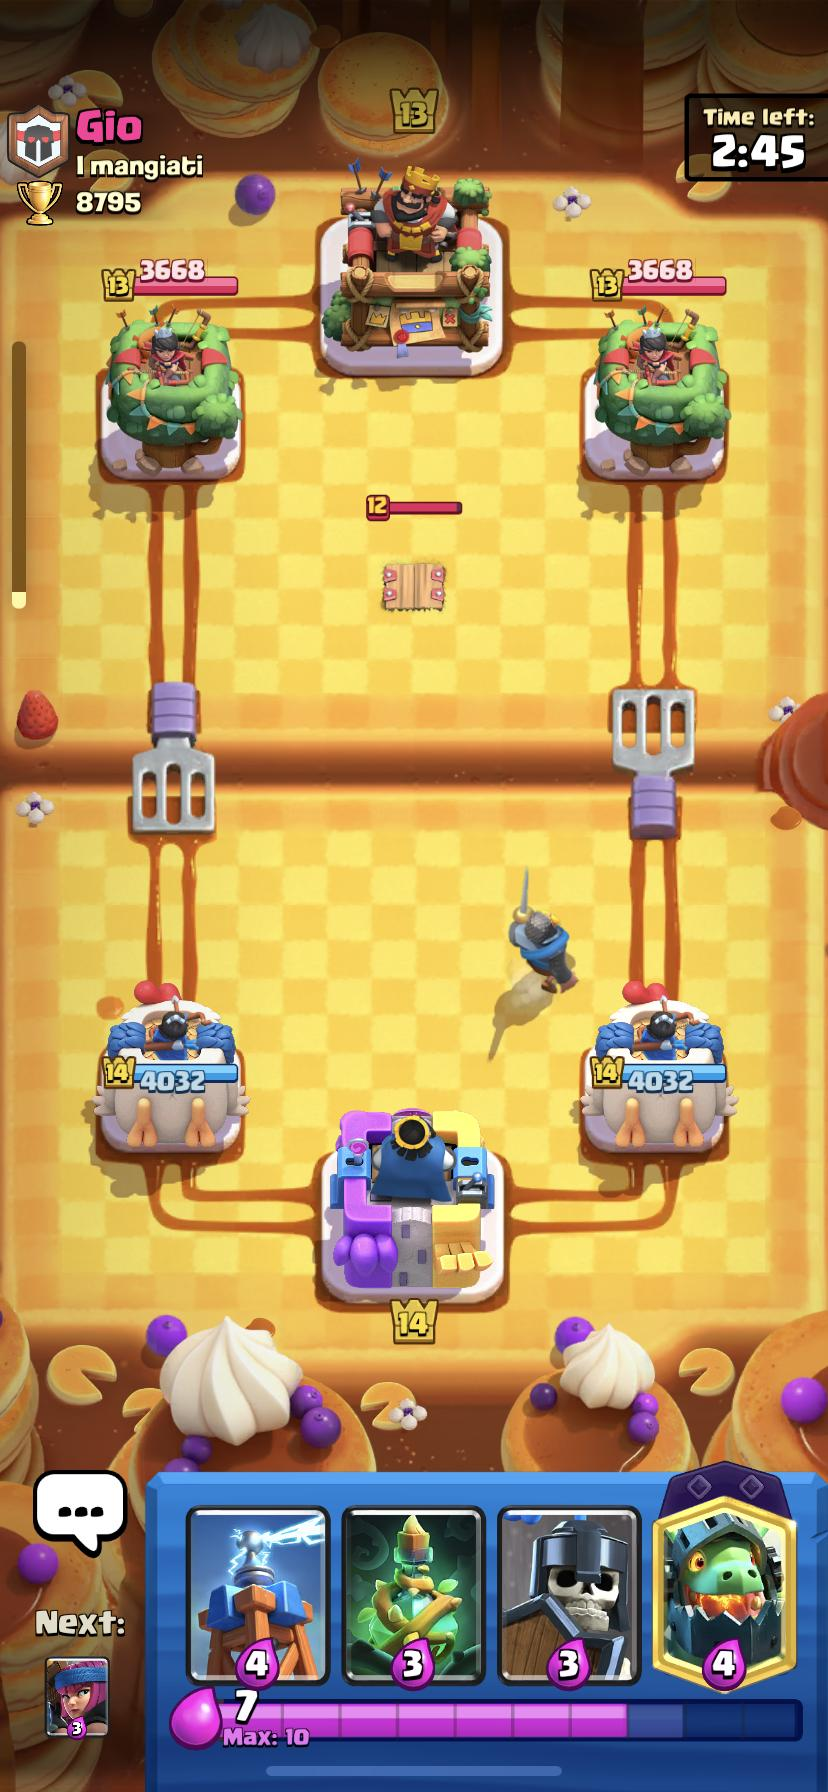EKingTower: (323, 168, 492, 367)
ETesla: (382, 563, 445, 610)
EnemyPrincessTower: (105, 309, 242, 479), (594, 307, 729, 479)
OKnight: (509, 896, 575, 992)
OwnKingTower: (323, 1109, 503, 1302)
OwnPrincessTower: (580, 987, 737, 1151), (93, 995, 248, 1152)
